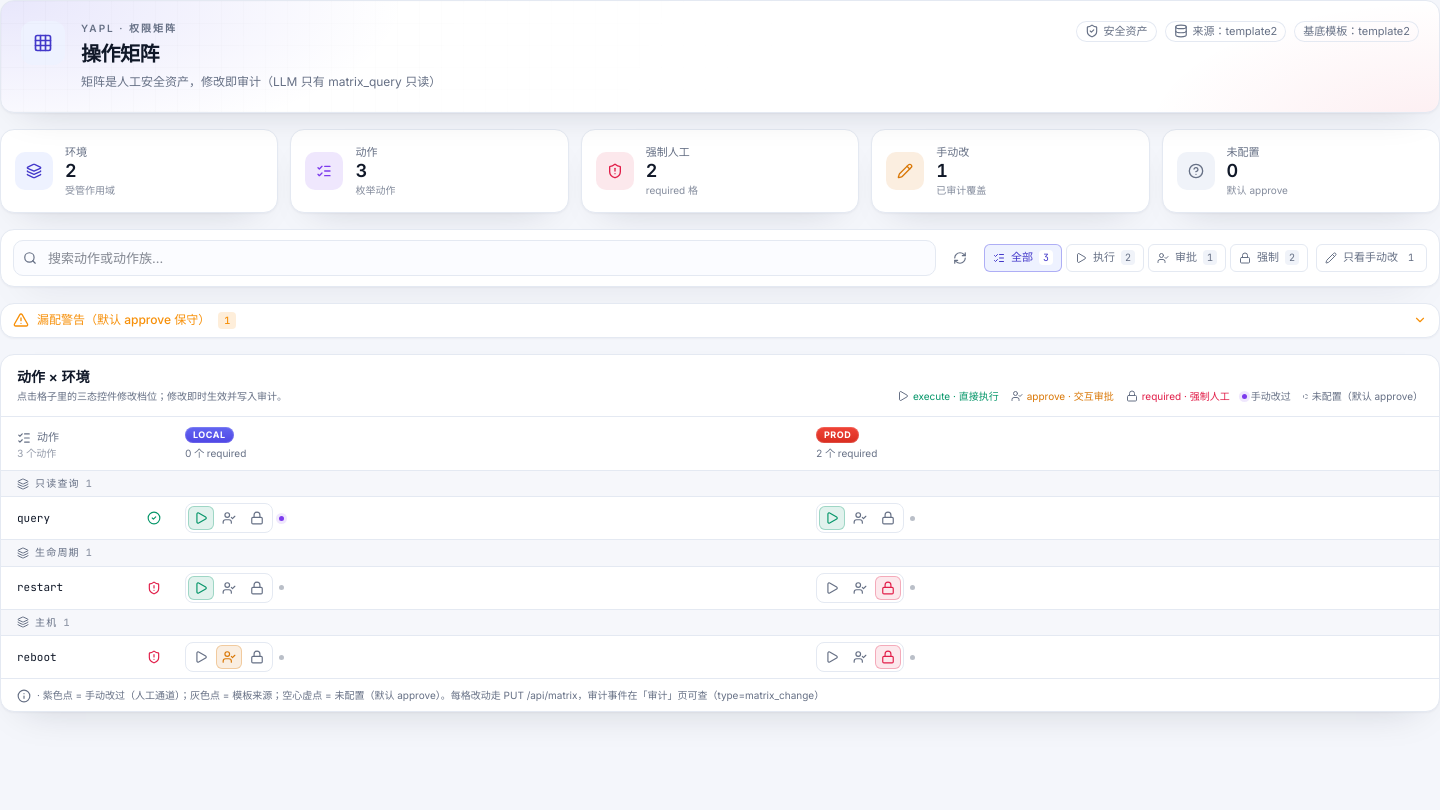
Test: MatrixPage › 修改格子：乐观更新 + PUT 落库 + 成功 toast
Click the button named "restart × prod：交互执行需人工审批": click(860, 588) [847,576,873,600]
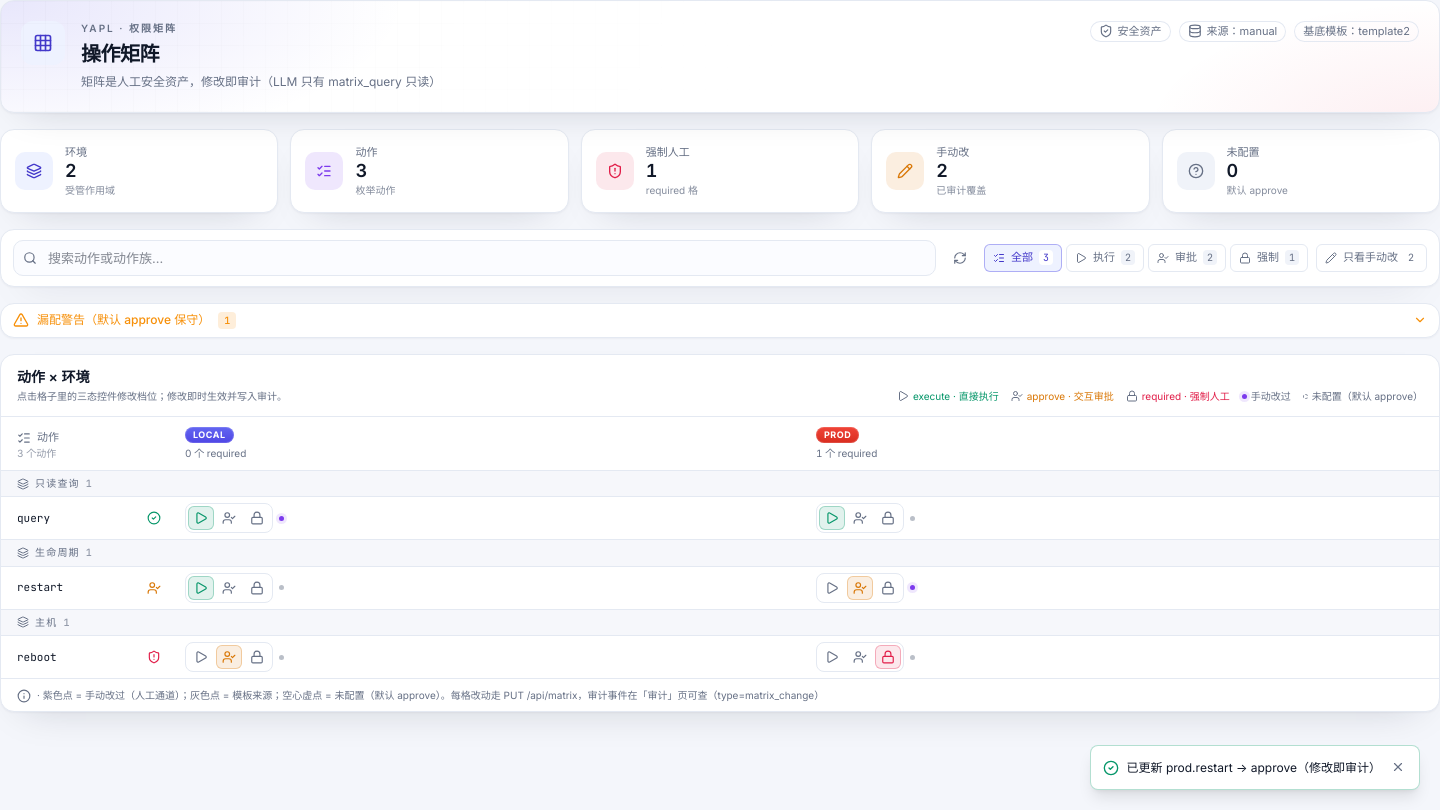
Now the text "已更新 prod.restart → approve" is shown, box [1126,760,1381,774]
